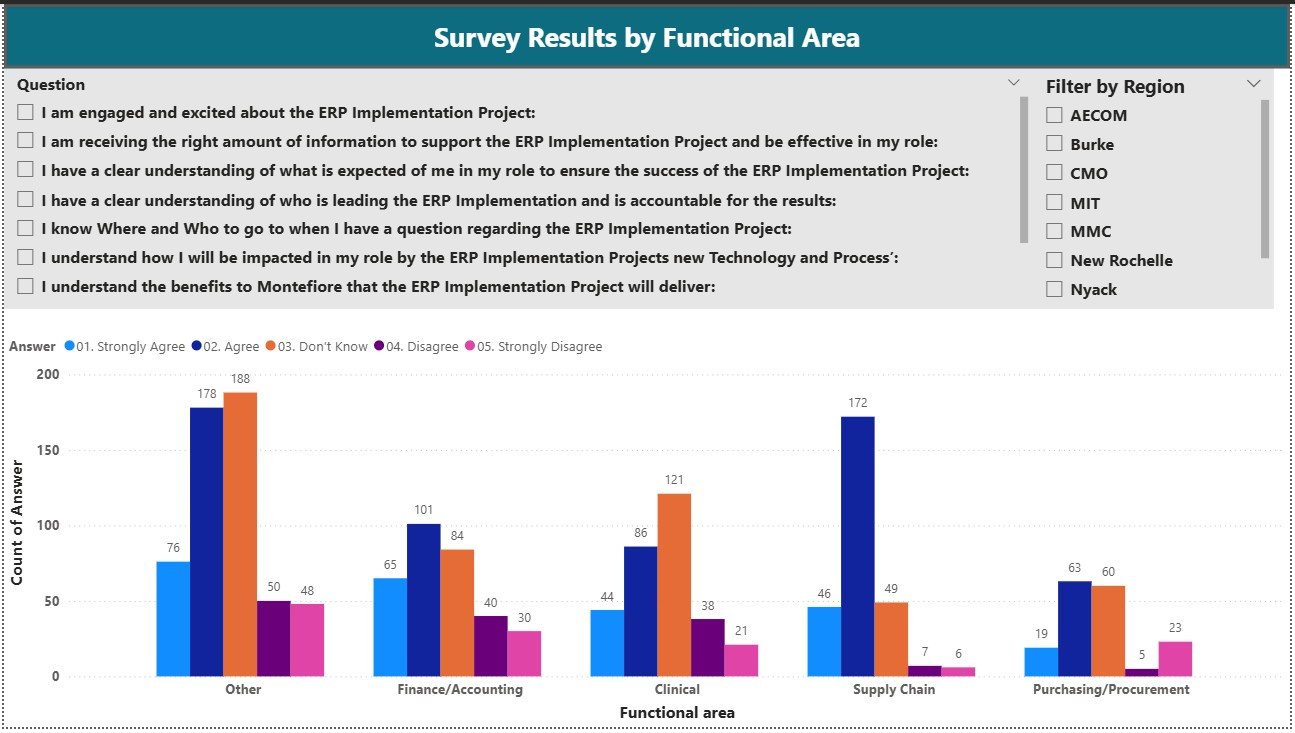

The page's visual inventory and layout, read from the dashboard file:
{"tool":"powerbi","page":{"name":"Page 3","canvas":[1280,720],"ordinal":2},"visuals":[{"type":"slicer","fields":{"Values":["query (14).Attribute"]},"box":[0,64,1024,240],"z":0},{"type":"slicer","fields":{"Values":["query (14).The Entity that I work for is:"]},"box":[1024,64,240,240],"z":1},{"type":"actionButton","box":[0,0,1280,64],"z":2},{"type":"clusteredColumnChart","fields":{"Y":["CountNonNull(query (14).Answer)"],"Category":["query (14).The Functional area that I work in is best described as:"],"Series":["query (14).Answer"]},"box":[0,320,1280,400],"z":3}]}

Visuals, with their boxes in screenshot pixels (x1, y1, x2, y2), scaled from the page's 1280x720 canvas onto the 1295x733 screenshot:
slicer - query (14).Attribute: <box>0,65,1036,309</box>
slicer - query (14).The Entity that I work for is:: <box>1036,65,1279,309</box>
actionButton: <box>0,0,1294,65</box>
clusteredColumnChart - CountNonNull(query (14).Answer) x query (14).The Functional area that I work in is best described as:: <box>0,326,1294,732</box>
